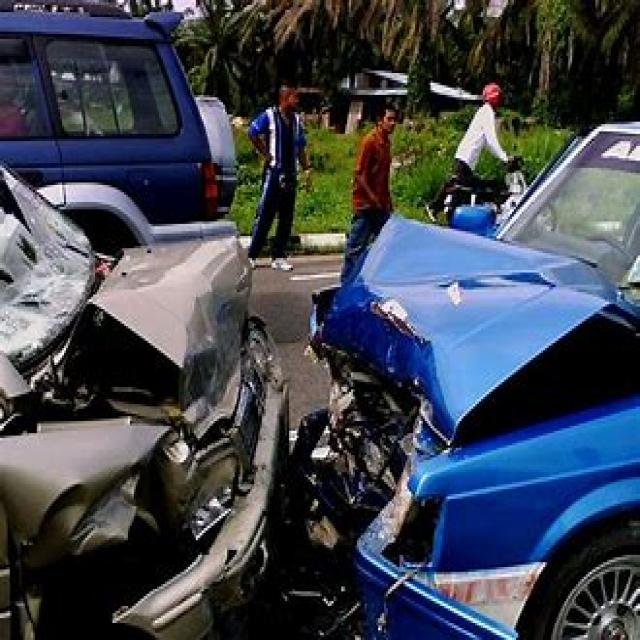Accident: (71, 92, 605, 598)
